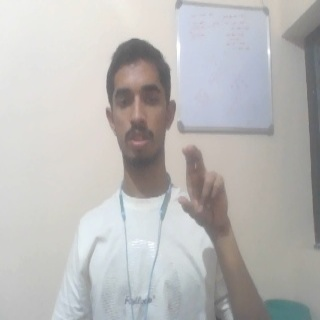Face: (102, 38, 177, 166)
No: (177, 143, 232, 232)
